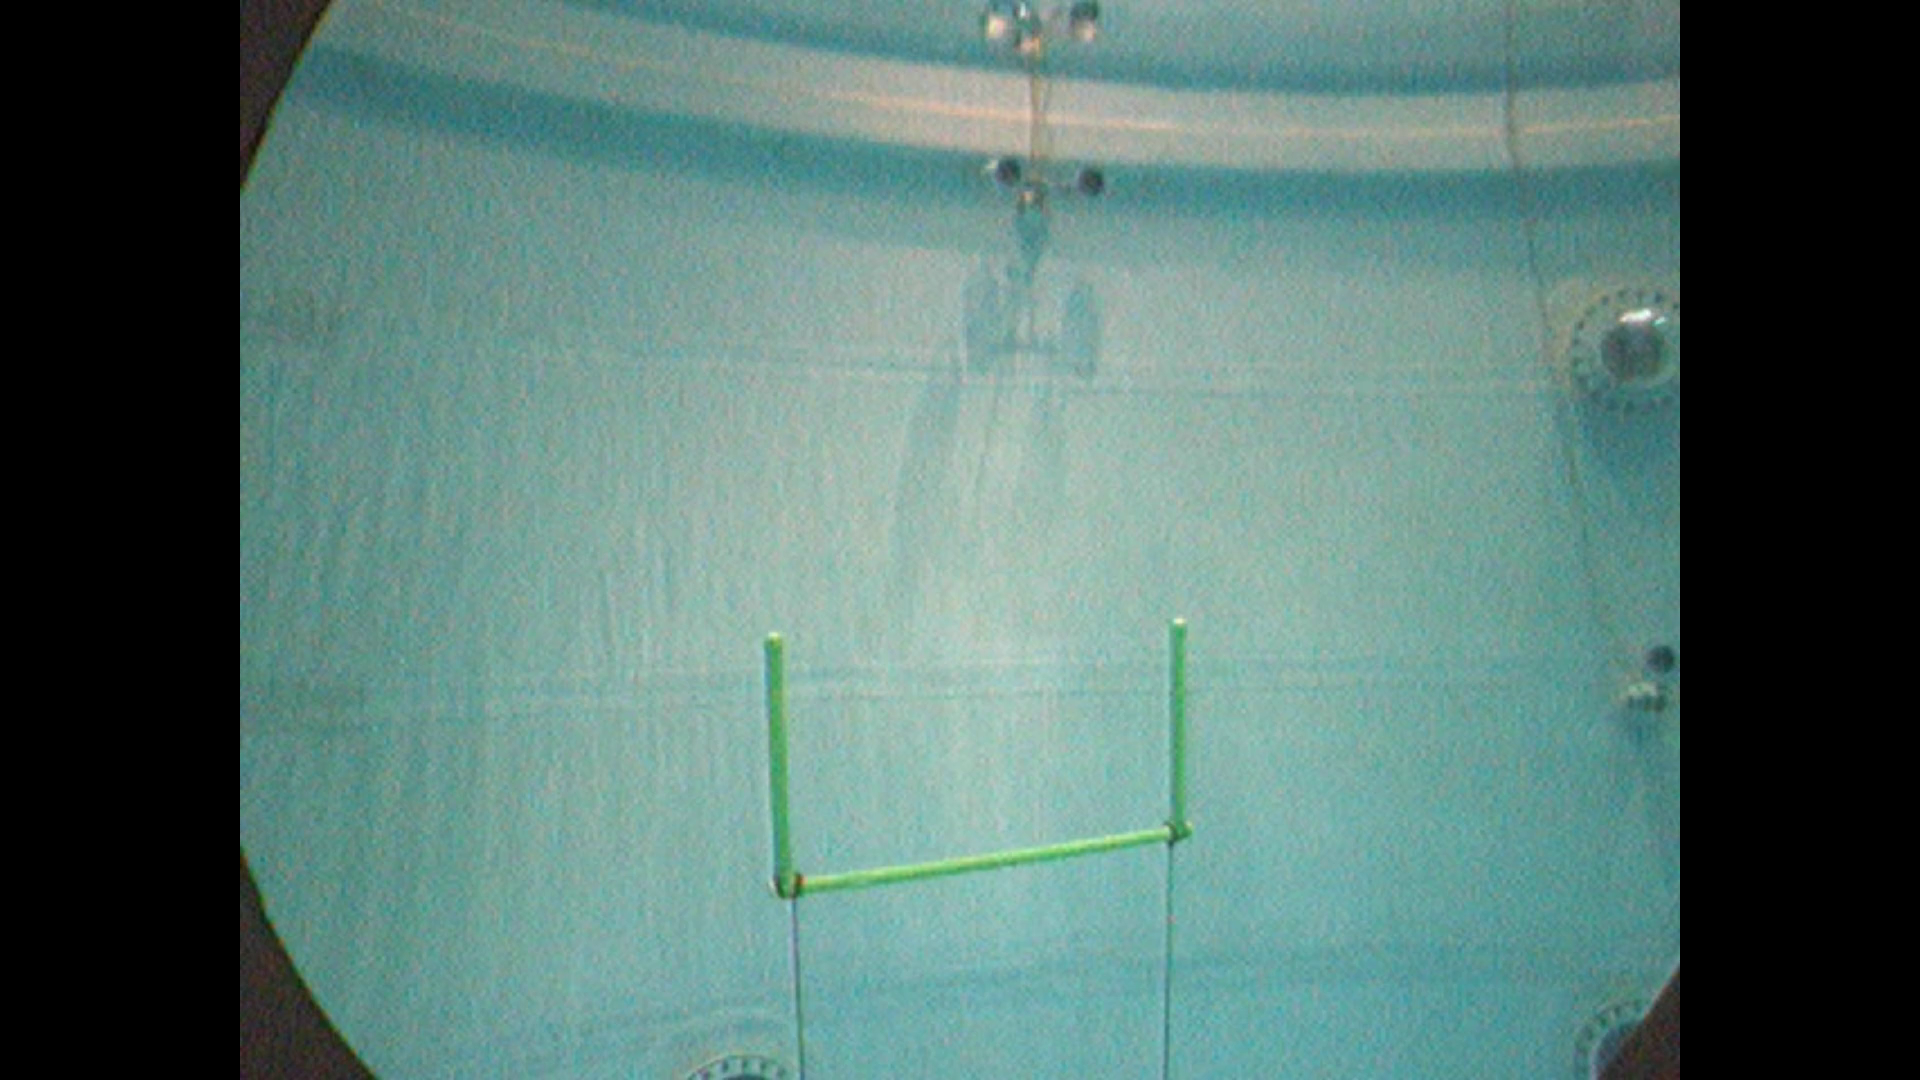gate: (757, 609, 1207, 916)
